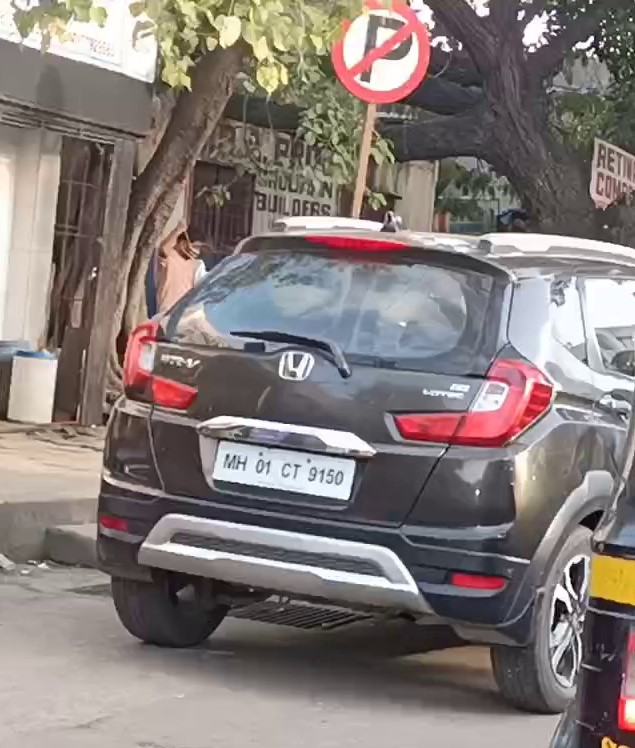MH01CT9150: (214, 438, 356, 503)
